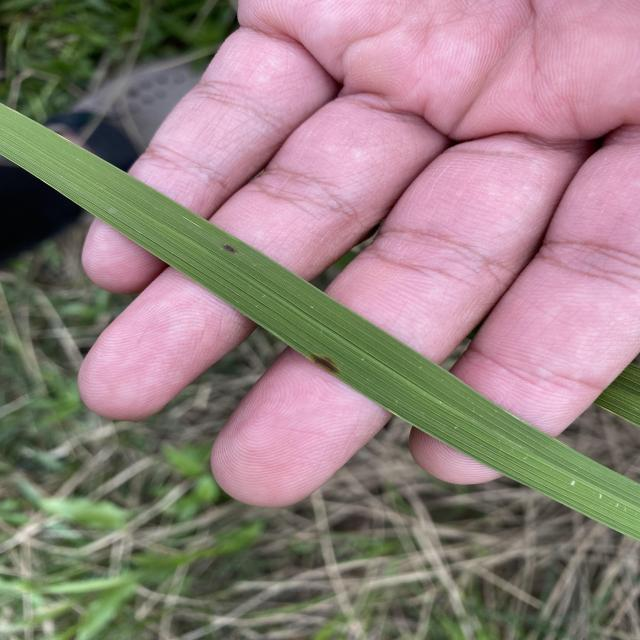Dom nau: (306, 352, 345, 376), (219, 241, 240, 256)
